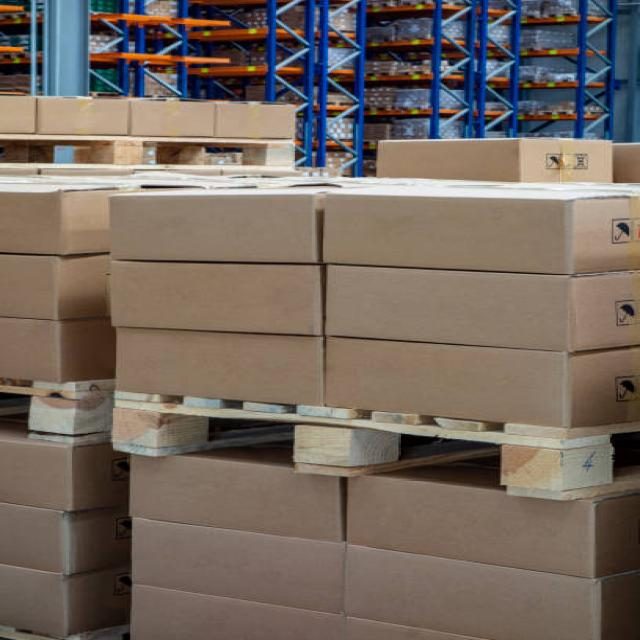Wooden-Pallets: (112, 389, 589, 506)
